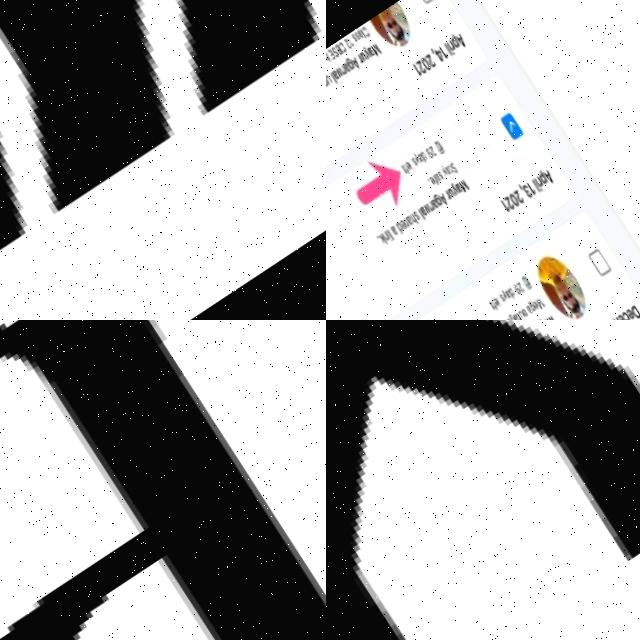0: (419, 54, 434, 72), (509, 192, 523, 208)
1: (412, 61, 425, 77), (502, 197, 514, 213), (528, 181, 539, 195), (439, 45, 450, 59)
2: (415, 58, 430, 75), (504, 194, 518, 212), (515, 189, 528, 204), (425, 53, 438, 68), (518, 281, 528, 293), (429, 144, 439, 156)
3: (521, 182, 536, 200)
4: (433, 46, 447, 63)
9: (514, 283, 524, 295), (426, 148, 436, 159)
W: (0, 0, 326, 320)
Y: (326, 320, 640, 640)
